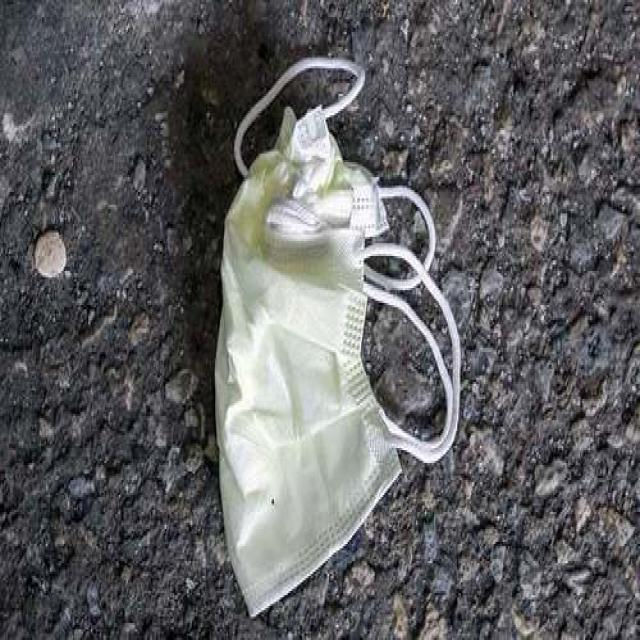non-organic waste: (208, 55, 468, 604)
